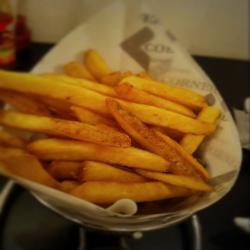fries: (1, 49, 226, 216)
